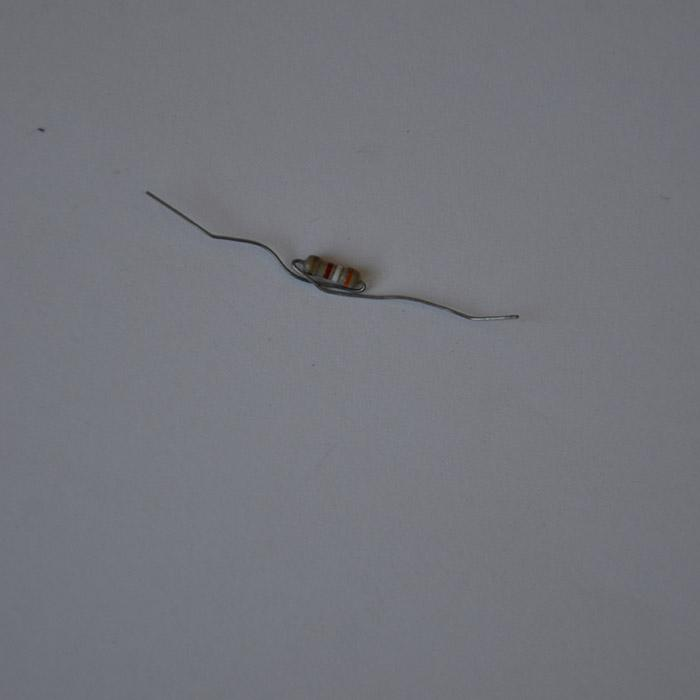resistor: (298, 254, 363, 288)
